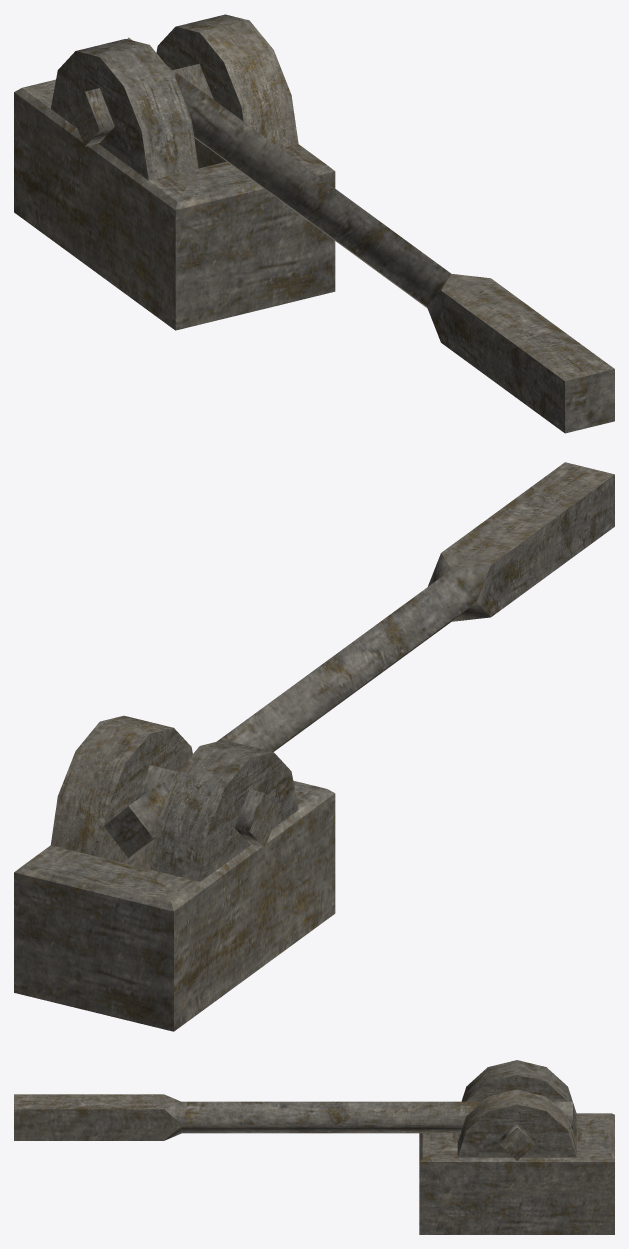
File: lever_2.fbx
3 views of the same model, one above another, from view 1: azimuth 30°, elevation 25°; view 2: azimuth 150°, elevation 25°; view 3: azimuth 270°, elevation 25° (orthographic). The views are drawn at different scales.
Parts seen in each view (by area): view 1: lever_2a, lever_2b; view 2: lever_2a, lever_2b; view 3: lever_2a, lever_2b.
Part boxes in pixels (bbox=[...]): lever_2a: bbox=[14, 14, 335, 330]; lever_2b: bbox=[127, 37, 614, 433]; lever_2a: bbox=[14, 715, 335, 1031]; lever_2b: bbox=[104, 462, 614, 857]; lever_2a: bbox=[419, 1060, 614, 1234]; lever_2b: bbox=[14, 1094, 572, 1140].
Bounding box in the file's own units: 9 × 10.2 × 43.
